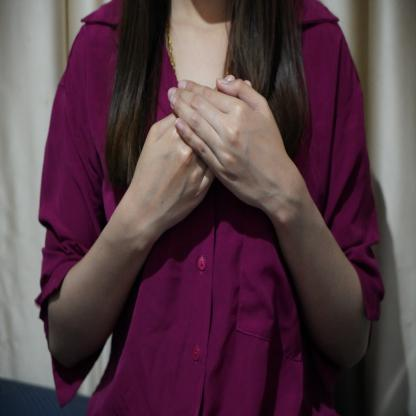Grieve: (128, 72, 300, 228)
